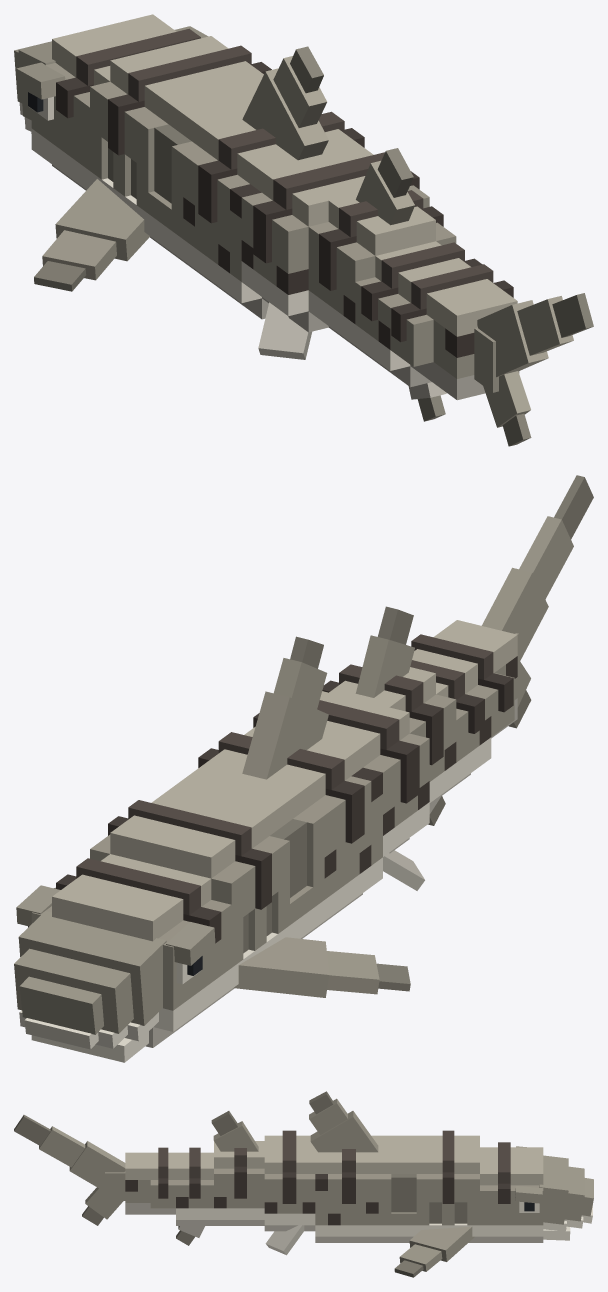
The model's file is LeopardShark.obj.
3 renders of one model, top to bottom at view 1: azimuth 30°, elevation 25°; view 2: azimuth 150°, elevation 25°; view 3: azimuth 270°, elevation 25°, orthographic. The views are drawn at different scales.
Visible parts, largest first — view 1: S1, S2, S3, S4, Head, S6, Tail, S5; view 2: Head, S1, S2, S3, S4, Tail, S6, S5; view 3: S1, S2, Head, S3, S4, Tail, S6, S5.
Part boxes in pixels (box(x1,y1,x2,y2)): S1: box(34, 36, 271, 291); S2: box(171, 46, 364, 319); S3: box(241, 147, 429, 359); S4: box(308, 148, 456, 361); Head: box(14, 14, 208, 190); S6: box(390, 264, 517, 400); Tail: box(474, 293, 593, 446); S5: box(355, 241, 482, 421); Head: box(14, 854, 231, 1062); S1: box(54, 773, 410, 1004); S2: box(192, 636, 382, 938); S3: box(253, 691, 429, 890); S4: box(322, 606, 456, 804); Tail: box(481, 475, 593, 728); S6: box(411, 620, 517, 738); S5: box(410, 655, 491, 825); S1: box(391, 1130, 479, 1277); S2: box(309, 1091, 391, 1242); Head: box(480, 1142, 593, 1242); S3: box(264, 1130, 315, 1255); S4: box(211, 1111, 264, 1225); Tail: box(14, 1115, 125, 1225); S6: box(125, 1147, 175, 1214); S5: box(176, 1147, 213, 1245).
Bounding box in the file's own units: 7.46 × 5.29 × 18.31.
Materials: 1 (1 with a texture image).
